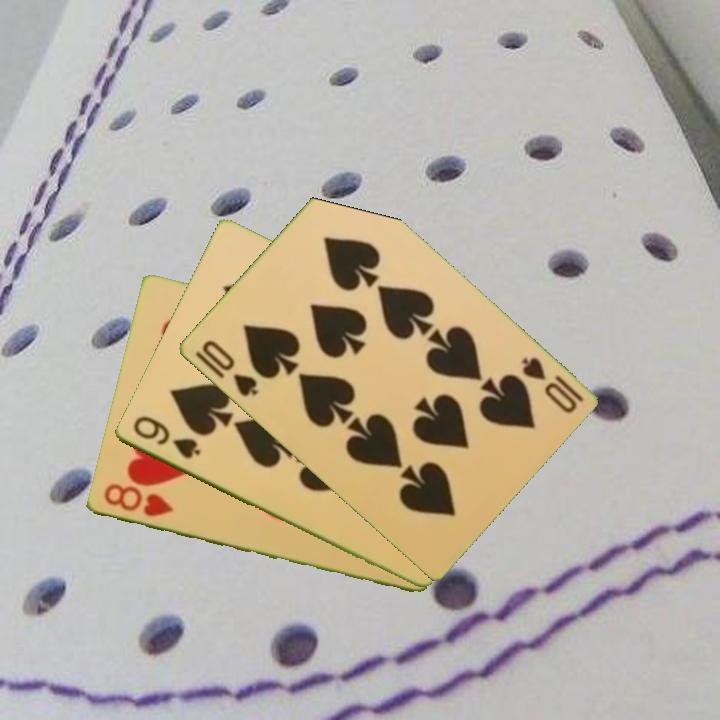10s: (517, 353, 587, 417), (198, 336, 260, 400)
8h: (99, 480, 176, 520)
9s: (128, 412, 203, 462)
